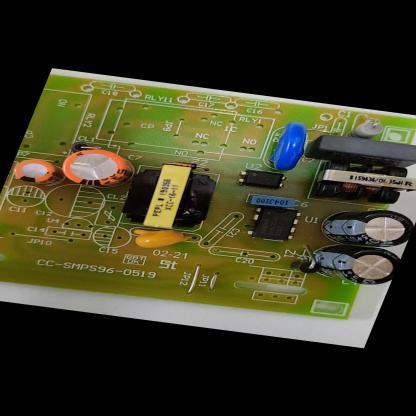Cap1: (53, 143, 146, 193)
Cap2: (6, 154, 63, 186)
Cap3: (305, 199, 415, 253)
Cap4: (289, 238, 403, 289)
MOSFET: (240, 203, 307, 247)
Mov: (254, 116, 319, 174)
Resistor: (348, 118, 387, 139)
Transformer: (113, 156, 228, 234), (303, 154, 416, 212)
